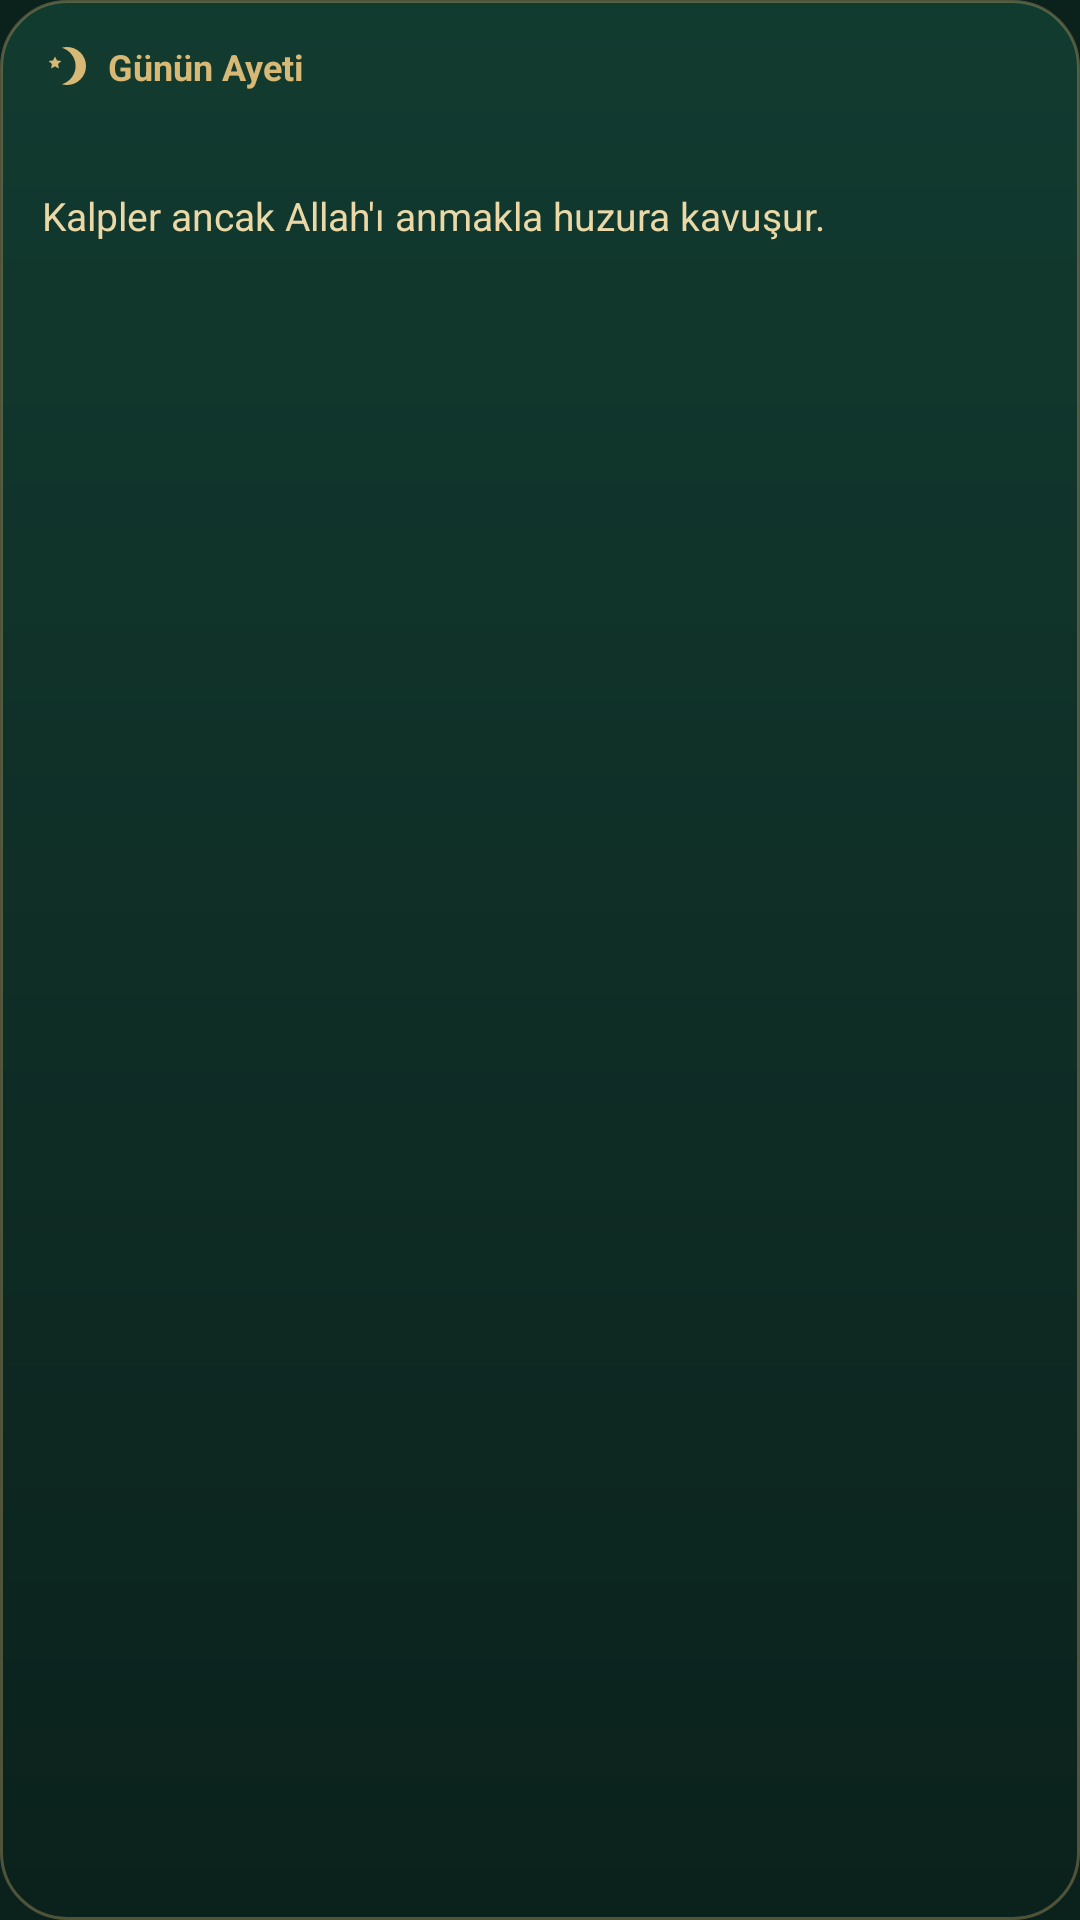

Where icons sit on this 1080*1920 app screen, as (x1, y1, x2, y2):
crescent: (49, 47, 86, 85)
